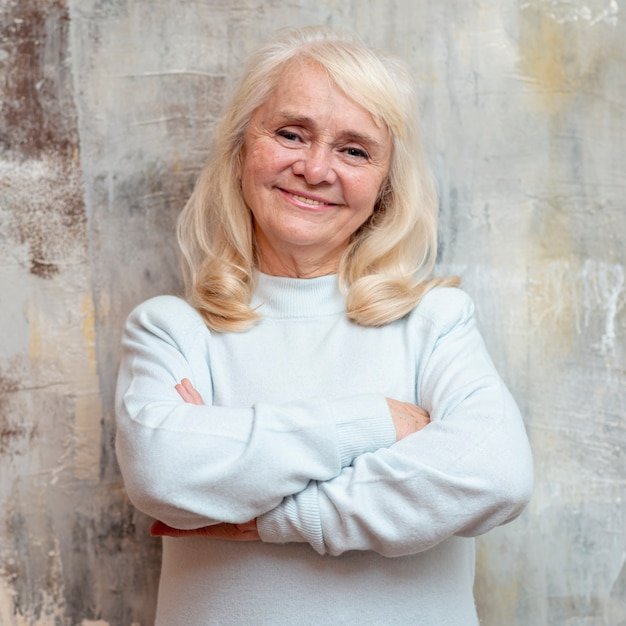young: (185, 41, 430, 320)
